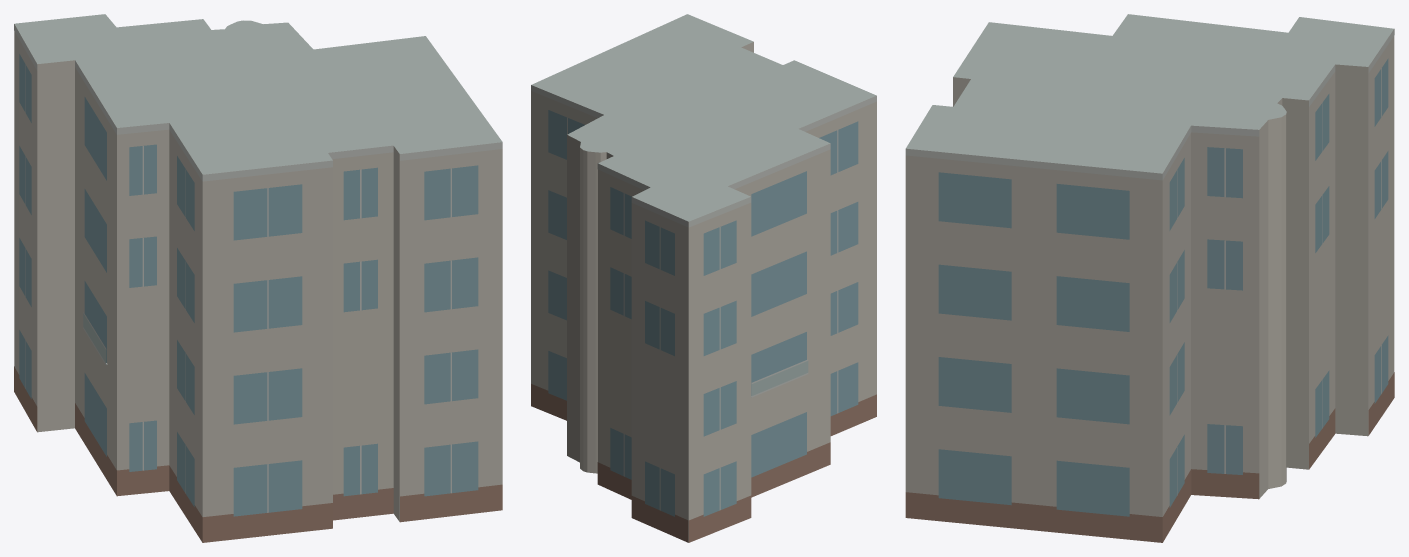
Rendered from survey-upis-32464957.glb.
3 views of the same model, side by side, from view 1: azimuth 30°, elevation 25°; view 2: azimuth 150°, elevation 25°; view 3: azimuth 270°, elevation 25° (orthographic). The views are drawn at different scales.
Parts seen in each view (by area): view 1: survey-upis-32464957.tmp; view 2: survey-upis-32464957.tmp; view 3: survey-upis-32464957.tmp.
Boxes of the visible parts, x1,y1,x2,y2 form: survey-upis-32464957.tmp: (14, 14, 502, 542); survey-upis-32464957.tmp: (531, 14, 876, 542); survey-upis-32464957.tmp: (905, 14, 1394, 542).
Size of the model in its own units: 12.29 by 13.25 by 15.9.
